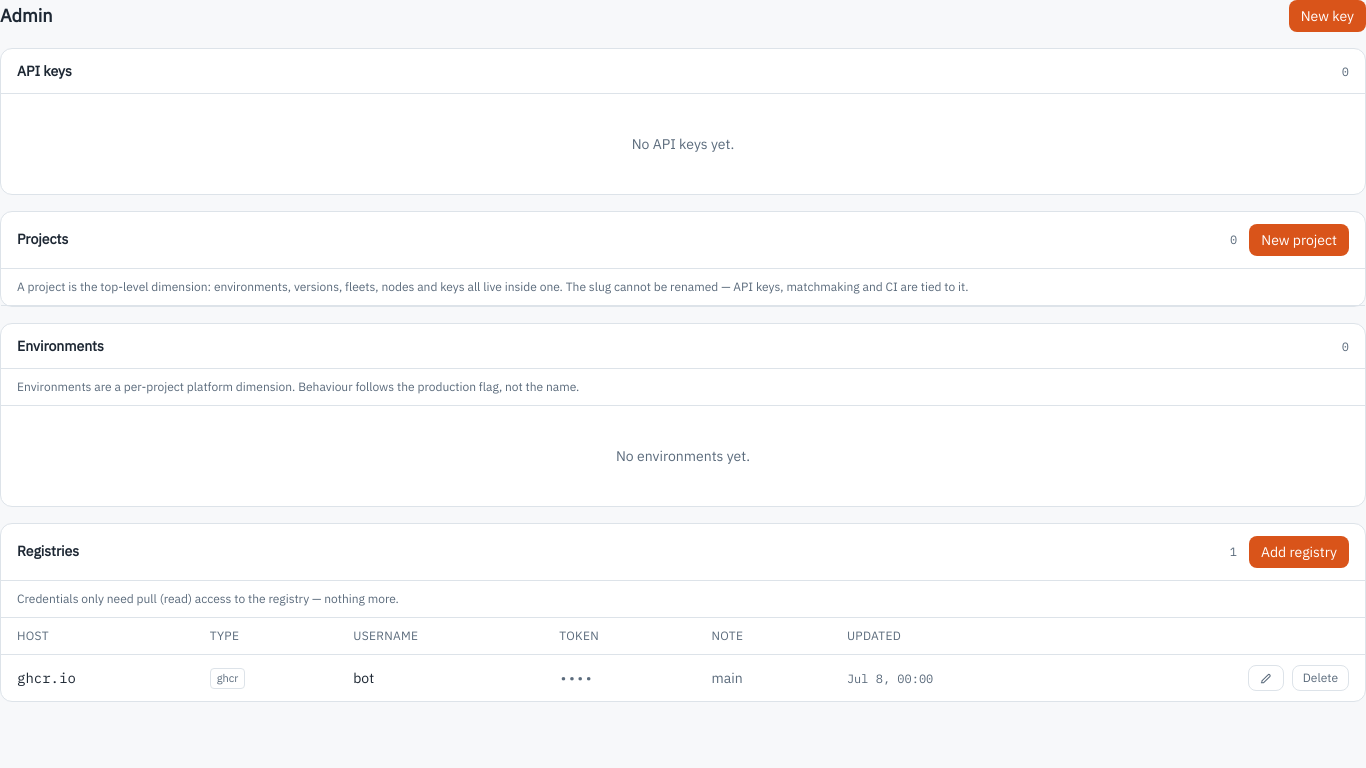
Test: Реестры — удаление › confirm → DELETE → строка пропадает
The image size is (1366, 768).
Expected: the text "ghcr.io" is shown, [17, 669, 76, 687]
Step 1. Click the button "Delete" → click(1320, 678), box [1292, 665, 1349, 691]
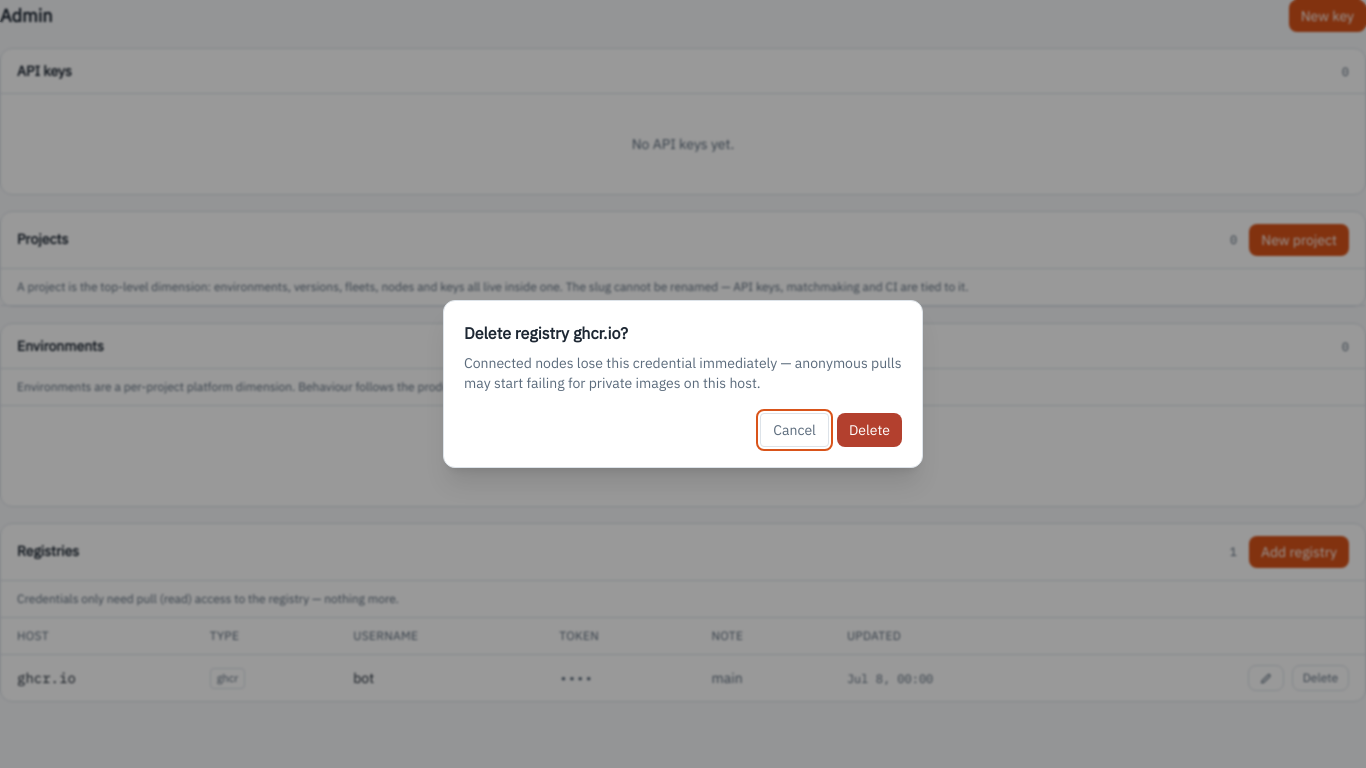
Step 2. Click the button "Delete" → click(869, 430), box [837, 413, 902, 447]
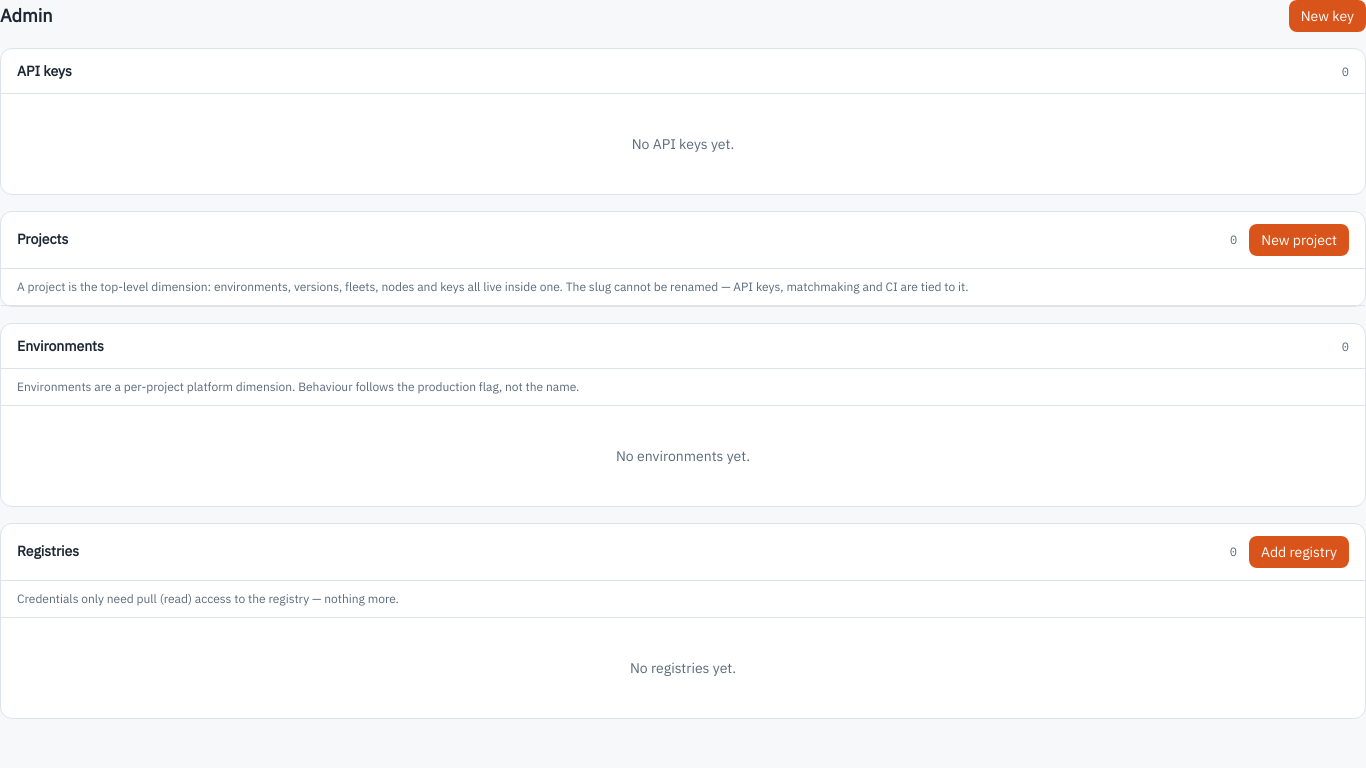
Expected: the text "ghcr.io" is gone
Expected: the text "No registries yet." is shown, [630, 659, 736, 677]
